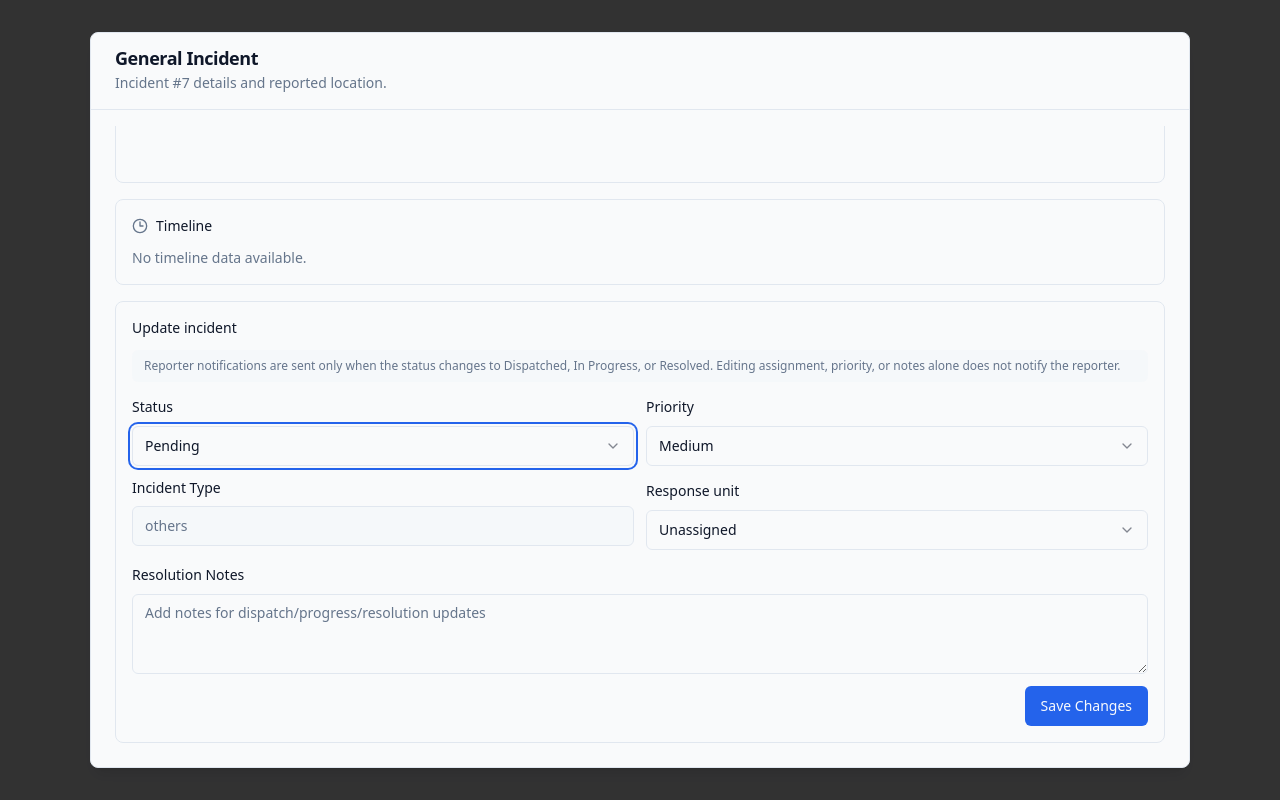
Test: IncidentDetailsDialog › shows assign department dropdown options
The width and height of the screenshot is (1280, 800).
(page scrolled)
Click the dropdown named "Response unit": point(698, 530) [646,510,1148,550]
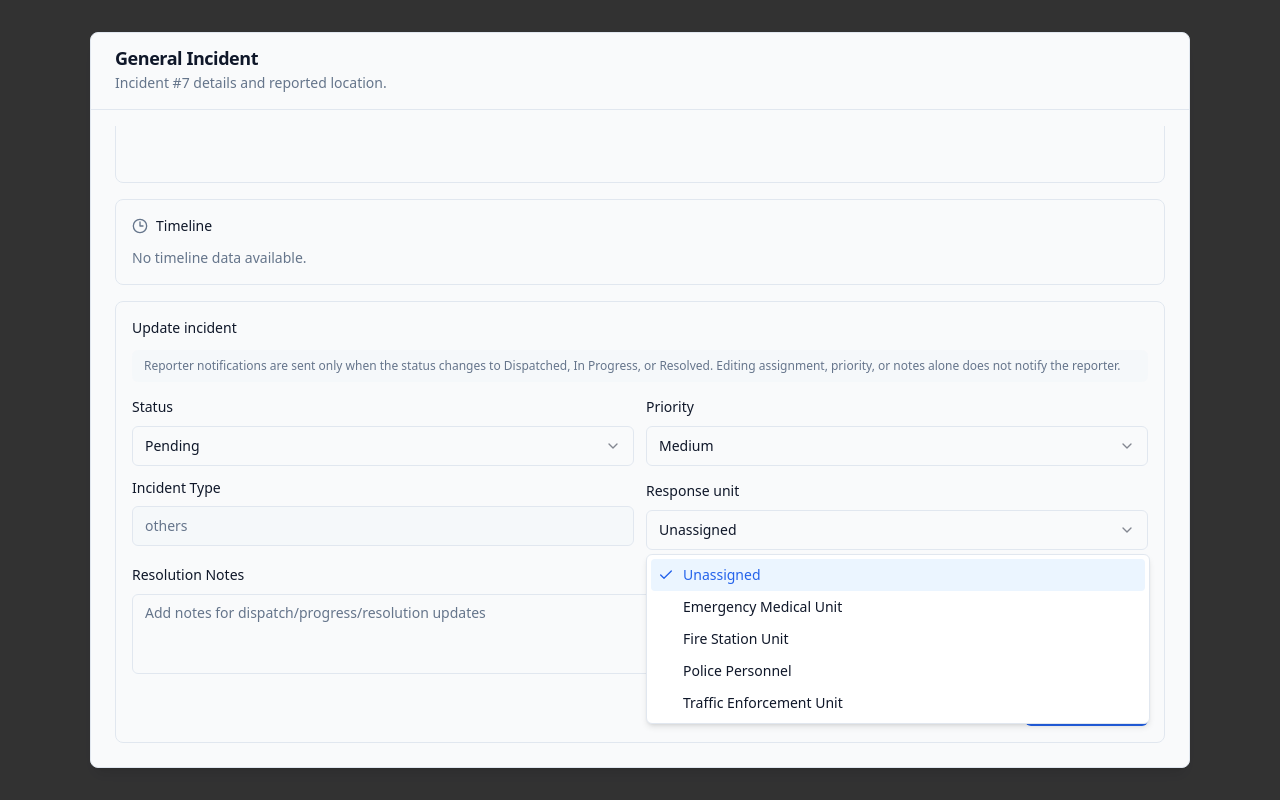
Check: the text "Emergency Medical Unit" is shown, box [683,597,842,617]
Check: the text "Fire Station Unit" is shown, box [683,629,788,649]
Check: the text "Police Personnel" is shown, box [683,661,792,681]
